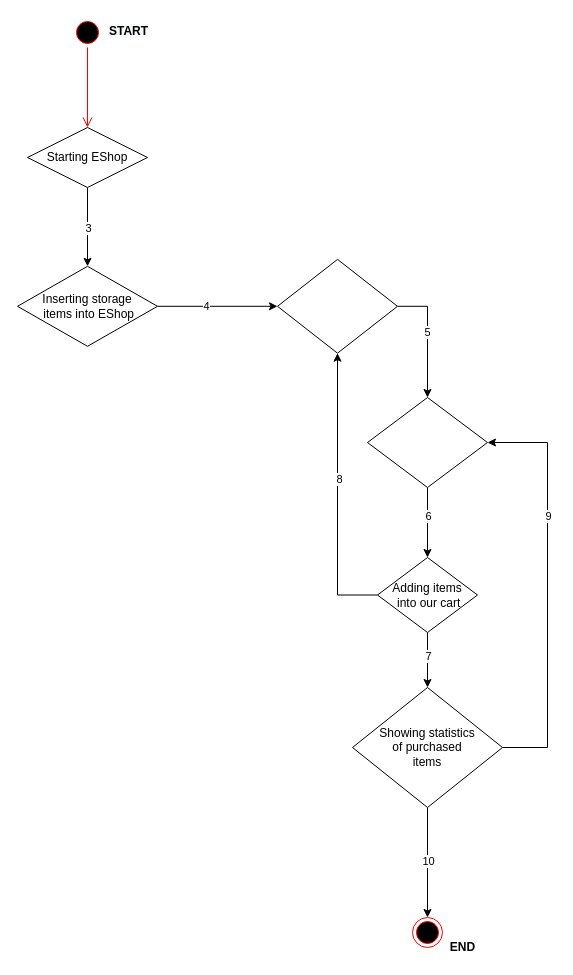
Image size: 573x975. Some labels were removed from this diagram. Here are the shapes that lost their labels. From the top down, the centre of each, then its label:
point 337,305: Showing list of stored items
point 427,442: Creating new cart
